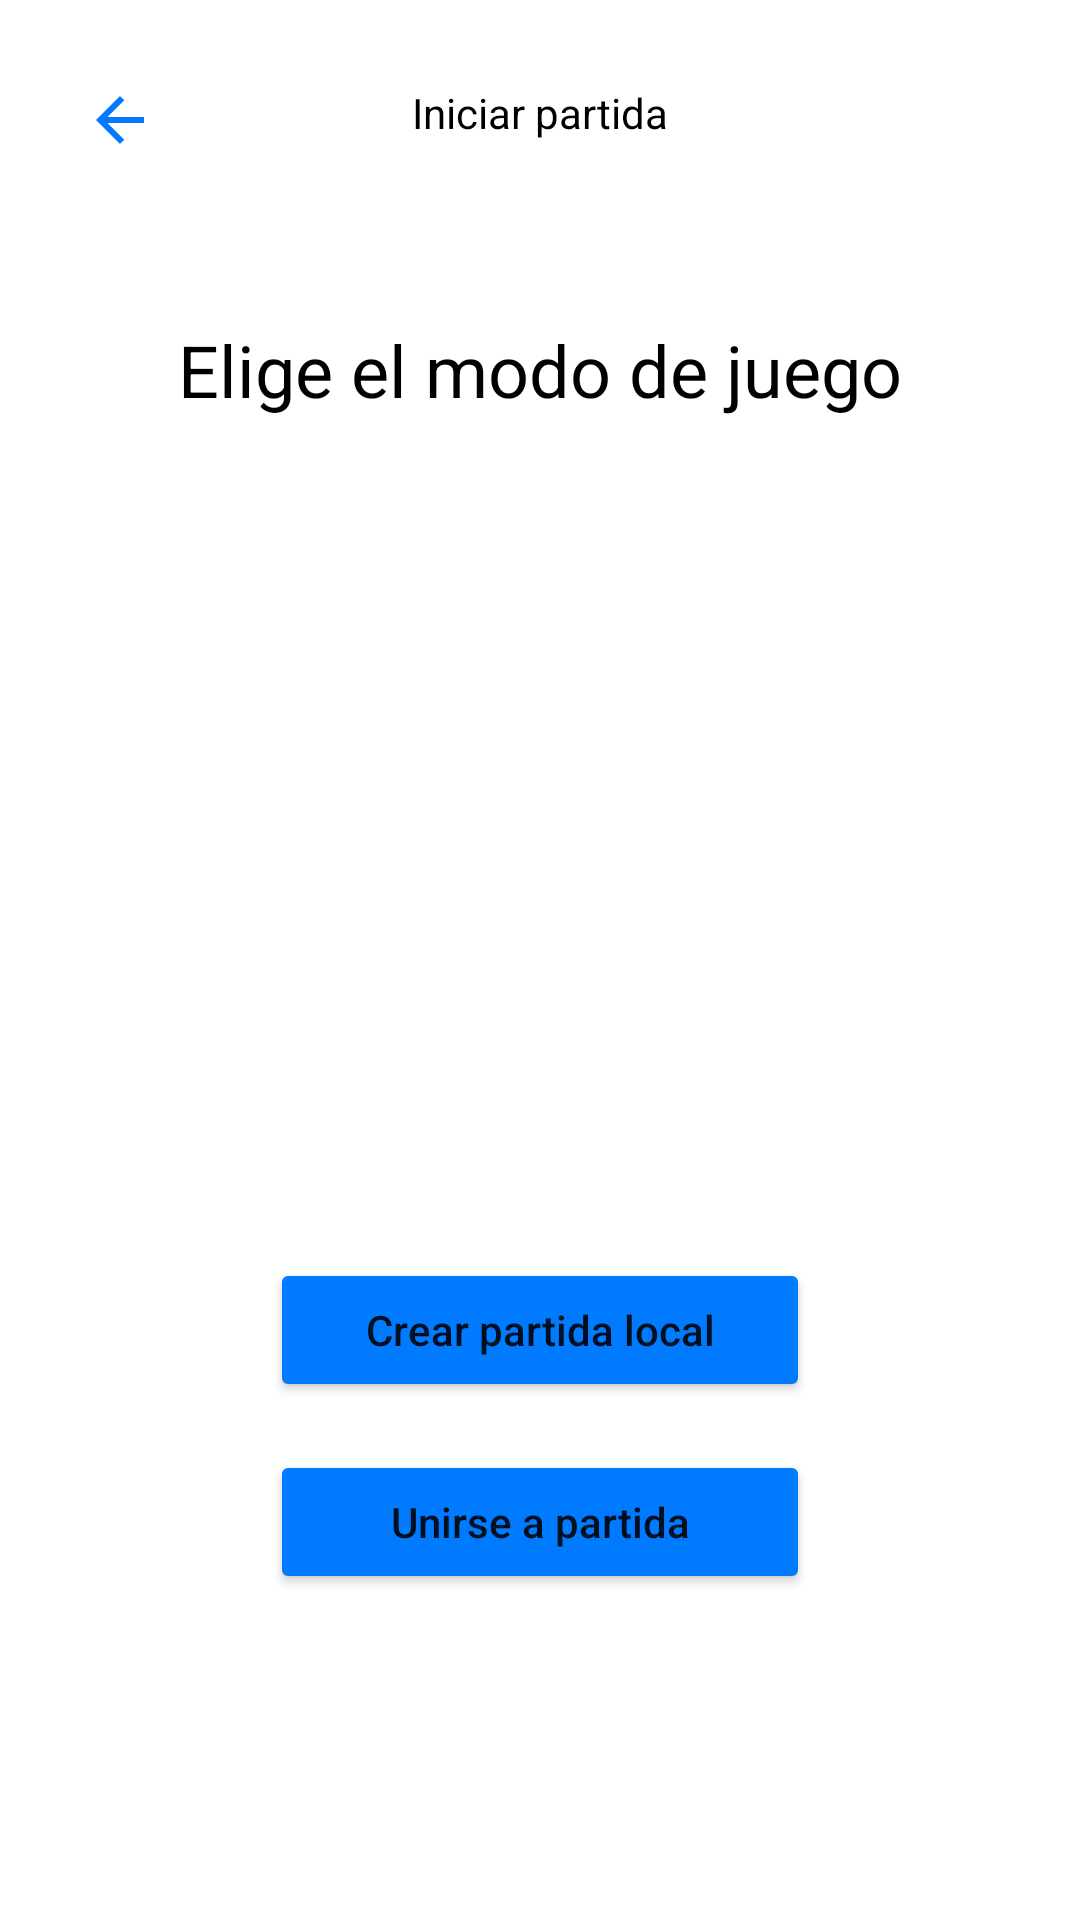

Named icons in this screenshot (1080px x 1920px) and their centers, (x,y):
Para volver al menu: (120,120)
